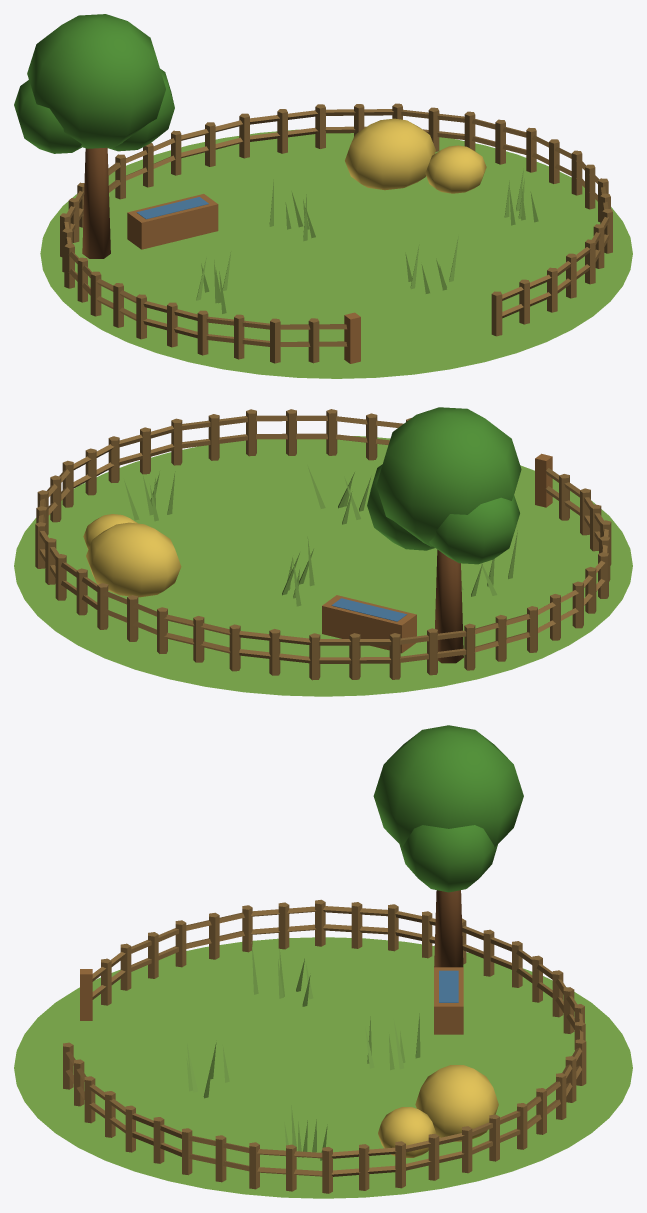
File: improvement_pasture.fbx
The picture shows the model from 3 angles, top to bottom: view 1: azimuth 30°, elevation 25°; view 2: azimuth 150°, elevation 25°; view 3: azimuth 270°, elevation 25°; orthographic projection. The views are drawn at different scales.
Visible parts, largest first — view 1: improvement_pasture_sg#7eaf4a_00, improvement_pasture_wood#8a6a3a.001_01, improvement_pasture_leaf#4a8a30_06, improvement_pasture_hay_04, improvement_pasture_wood#9a6a38.001_02, improvement_pasture_wood#6a4423.001_05, improvement_pasture_grass#7aa84a_07, improvement_pasture_trough_03; view 2: improvement_pasture_sg#7eaf4a_00, improvement_pasture_wood#8a6a3a.001_01, improvement_pasture_leaf#4a8a30_06, improvement_pasture_hay_04, improvement_pasture_wood#9a6a38.001_02, improvement_pasture_wood#6a4423.001_05, improvement_pasture_grass#7aa84a_07, improvement_pasture_trough_03; view 3: improvement_pasture_sg#7eaf4a_00, improvement_pasture_wood#8a6a3a.001_01, improvement_pasture_leaf#4a8a30_06, improvement_pasture_hay_04, improvement_pasture_grass#7aa84a_07, improvement_pasture_wood#6a4423.001_05, improvement_pasture_wood#9a6a38.001_02, improvement_pasture_trough_03.
Boxes of the visible parts, x1,y1,x2,y2 form: improvement_pasture_sg#7eaf4a_00: (40,129,632,378); improvement_pasture_wood#8a6a3a.001_01: (60,103,612,363); improvement_pasture_leaf#4a8a30_06: (14,14,174,153); improvement_pasture_hay_04: (345,118,486,193); improvement_pasture_wood#9a6a38.001_02: (127,194,360,363); improvement_pasture_wood#6a4423.001_05: (82,147,110,258); improvement_pasture_grass#7aa84a_07: (196,168,538,313); improvement_pasture_trough_03: (136,197,208,219); improvement_pasture_sg#7eaf4a_00: (14,436,632,696); improvement_pasture_wood#8a6a3a.001_01: (35,409,611,680); improvement_pasture_leaf#4a8a30_06: (367,407,521,564); improvement_pasture_hay_04: (83,514,181,597); improvement_pasture_wood#9a6a38.001_02: (322,453,552,653); improvement_pasture_wood#6a4423.001_05: (435,549,463,663); improvement_pasture_grass#7aa84a_07: (124,465,517,606); improvement_pasture_trough_03: (331,598,406,621); improvement_pasture_sg#7eaf4a_00: (14,937,632,1198); improvement_pasture_wood#8a6a3a.001_01: (63,899,586,1193); improvement_pasture_leaf#4a8a30_06: (373,725,523,892); improvement_pasture_hay_04: (378,1065,498,1157); improvement_pasture_grass#7aa84a_07: (186,942,420,1160); improvement_pasture_wood#6a4423.001_05: (434,890,463,967); improvement_pasture_wood#9a6a38.001_02: (80,967,463,1034); improvement_pasture_trough_03: (439,970,458,1002).
Size of the model in its own units: 148 by 67.16 by 148.
